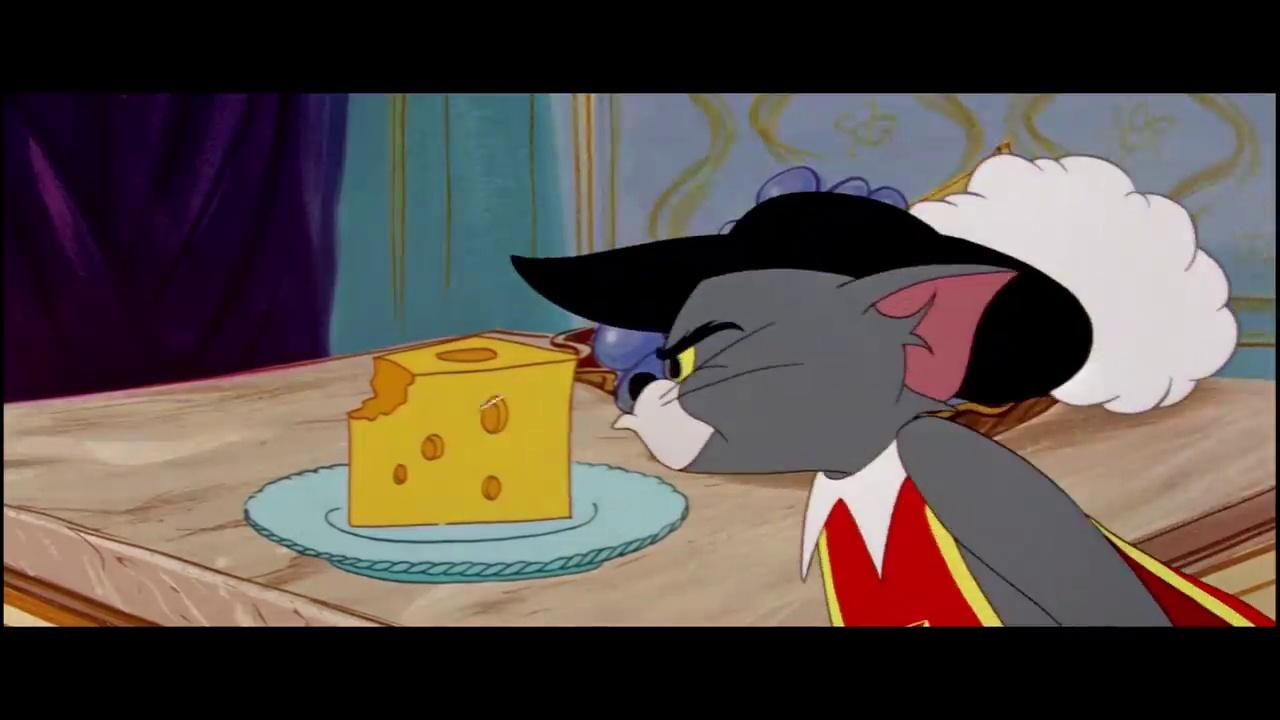Tom: (609, 263, 1176, 625)
